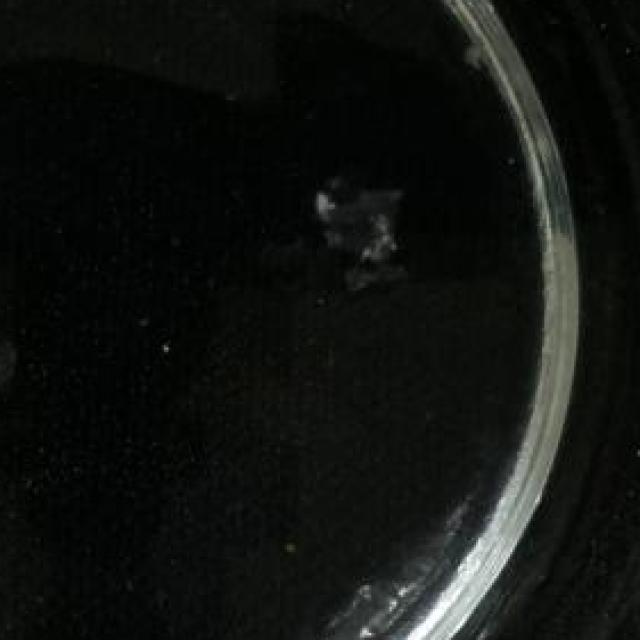Microplastic: (316, 167, 422, 280), (0, 293, 25, 395)
